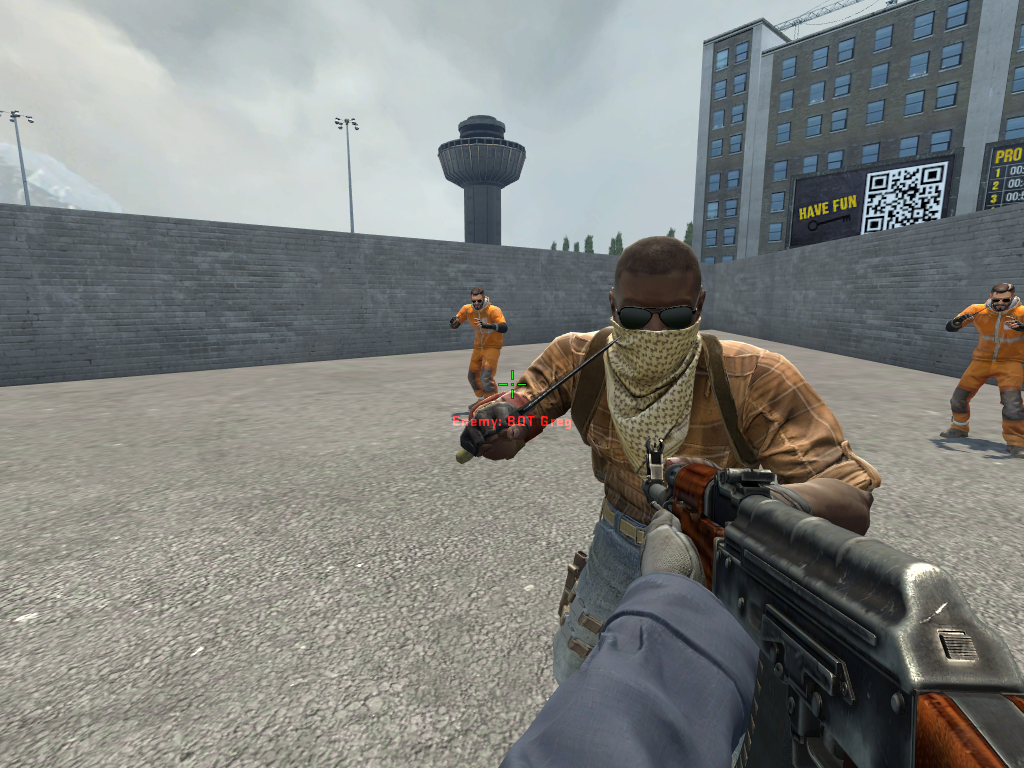tr head: (615, 241, 696, 375), (991, 283, 1012, 308), (471, 288, 484, 309)
